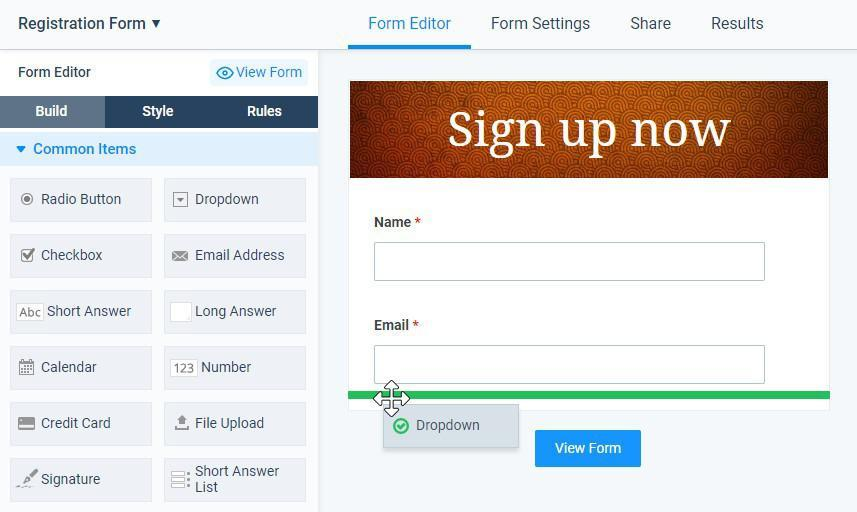button: (348, 2, 472, 51), (385, 405, 520, 448), (537, 431, 642, 468), (1, 95, 107, 129), (210, 59, 310, 87)
checkbox: (20, 249, 36, 265)
dropdown: (4, 132, 320, 170), (13, 11, 170, 39), (173, 192, 194, 217)
icon: (16, 470, 42, 493), (169, 469, 193, 492), (13, 415, 38, 437), (15, 357, 36, 377), (171, 250, 192, 268), (175, 415, 192, 437)
input: (375, 242, 765, 282), (375, 346, 766, 384)
label: (196, 465, 283, 496), (490, 15, 592, 34), (196, 247, 288, 268), (41, 191, 124, 210), (193, 191, 259, 211), (194, 416, 267, 434), (49, 305, 134, 320), (196, 305, 278, 320), (40, 246, 106, 264), (41, 471, 103, 489), (709, 16, 770, 33), (39, 416, 113, 430), (203, 358, 254, 377), (630, 16, 675, 34), (373, 318, 423, 334), (373, 216, 424, 231), (41, 362, 99, 375), (245, 103, 283, 121), (141, 105, 176, 121)
radio: (20, 192, 36, 208)
